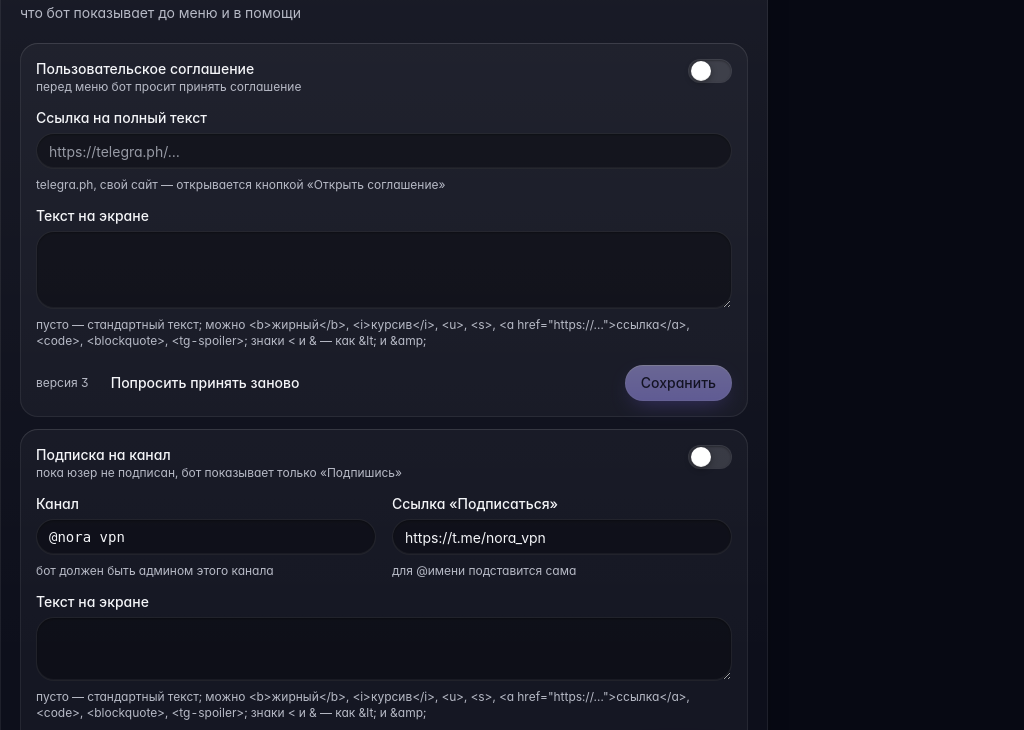
BotSection › warns that the channel gate covers paying users too
The width and height of the screenshot is (1024, 730).
Click the switch named "Подписка на канал".
click(710, 457)  # box [688, 445, 732, 469]
(page scrolled)
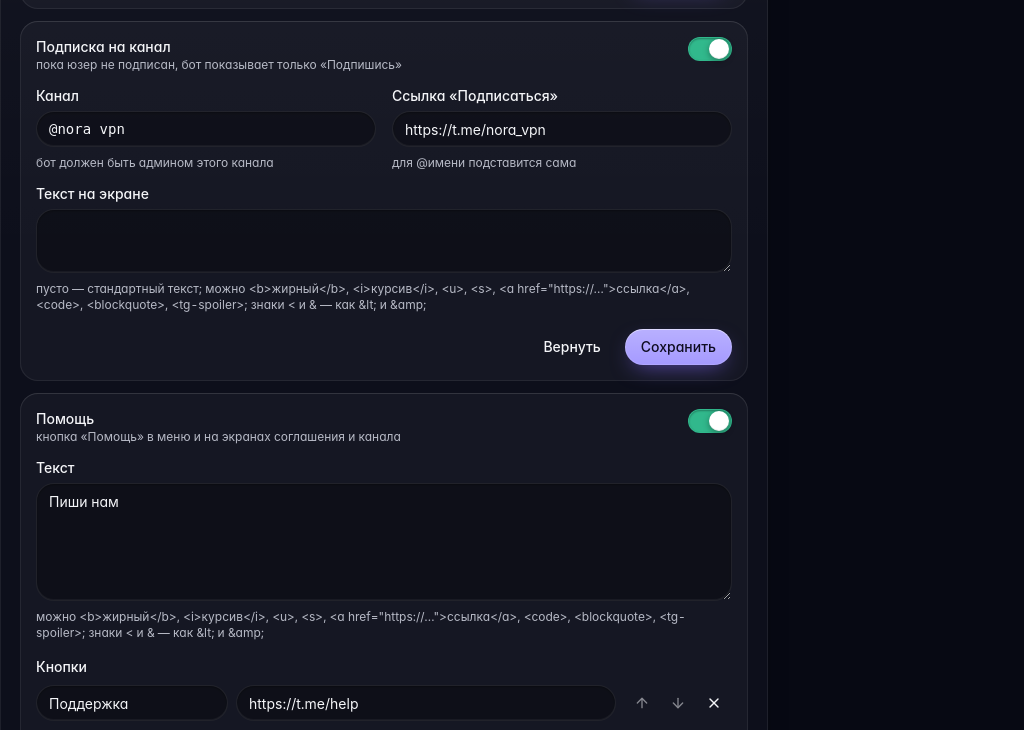
Click the button "Сохранить" below "для @имени подставится сама".
click(678, 347)  # box [625, 329, 732, 365]
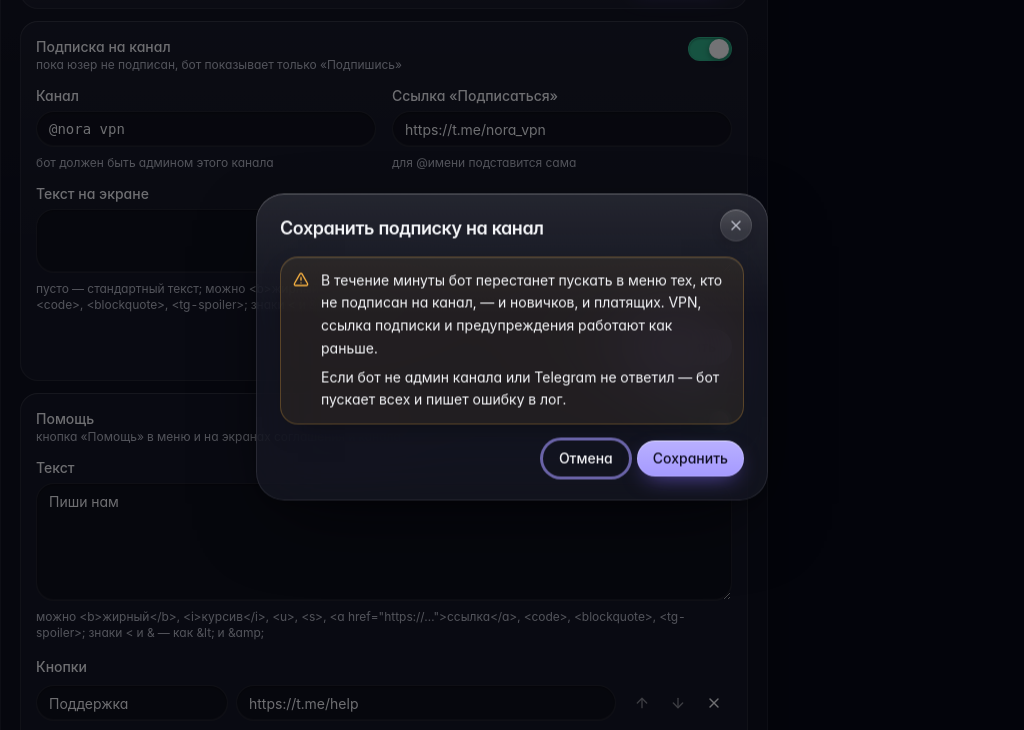
Expected: the dialog shows "и платящих", [321, 271, 722, 356]
Expected: the dialog shows "пускает всех", [321, 368, 719, 408]
